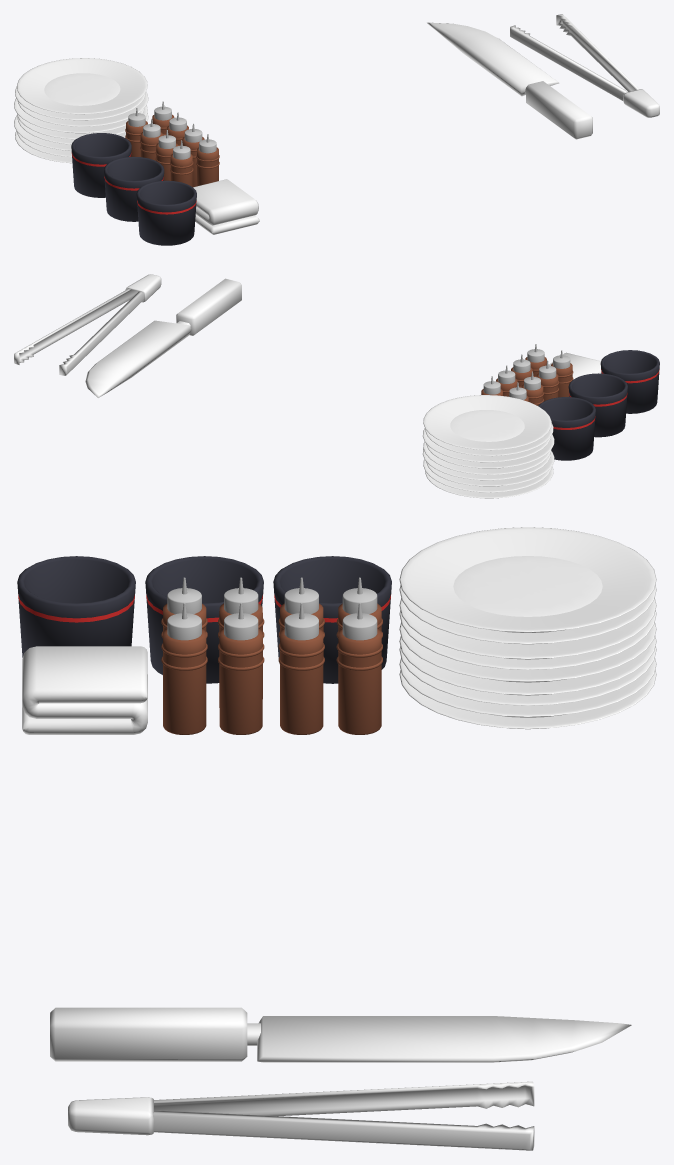
File: obj0603_side.fbx
3 renders of one model, top to bottom at view 1: azimuth 30°, elevation 25°; view 2: azimuth 150°, elevation 25°; view 3: azimuth 270°, elevation 25°, orthographic. The views are drawn at different scales.
Visible parts, largest first — view 1: dish stack, miso.001, knife, sauce.001, tongs, dishcloth; view 2: dish stack, miso.001, knife, sauce.001, tongs, dishcloth; view 3: dish stack, knife, sauce.001, miso.001, tongs, dishcloth.
Boxes of the visible parts, left/top/right/bottom form: dish stack: left=14, top=58, right=148, bottom=163; miso.001: left=71, top=133, right=196, bottom=245; knife: left=427, top=22, right=592, bottom=139; sauce.001: left=125, top=101, right=219, bottom=187; tongs: left=510, top=14, right=659, bottom=117; dishcloth: left=193, top=179, right=259, bottom=234; dish stack: left=422, top=395, right=554, bottom=498; miso.001: left=538, top=350, right=659, bottom=460; knife: left=85, top=278, right=241, bottom=397; sauce.001: left=481, top=344, right=573, bottom=405; tongs: left=14, top=274, right=161, bottom=375; dishcloth: left=548, top=352, right=601, bottom=379; dish stack: left=399, top=527, right=656, bottom=729; knife: left=50, top=1007, right=631, bottom=1062; sauce.001: left=161, top=577, right=382, bottom=734; miso.001: left=17, top=556, right=391, bottom=683; tongs: left=68, top=1081, right=534, bottom=1150; dishcloth: left=22, top=646, right=147, bottom=734.
Size of the model in its own units: 6.24 by 0.704 by 3.25.
